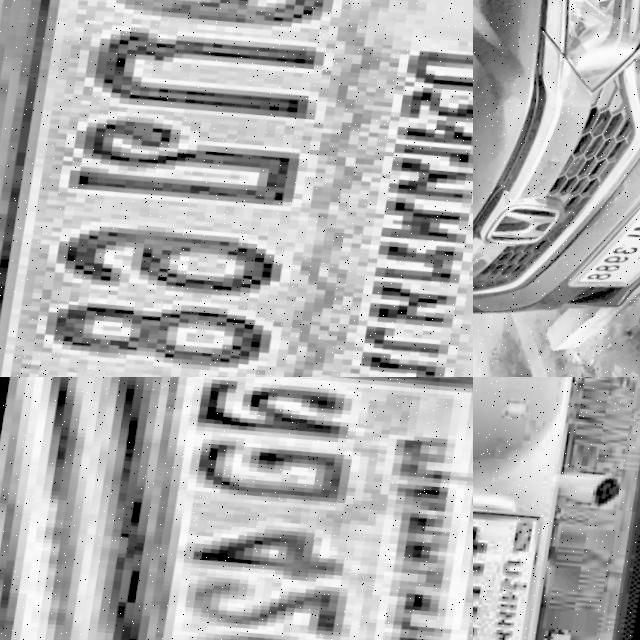license-plate: (0, 0, 473, 377), (63, 377, 473, 640), (473, 502, 552, 640), (567, 186, 640, 305)
